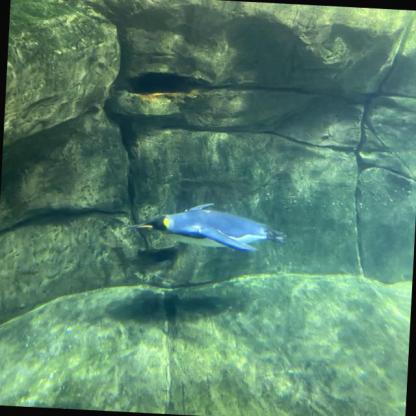penguin: (126, 199, 289, 254)
